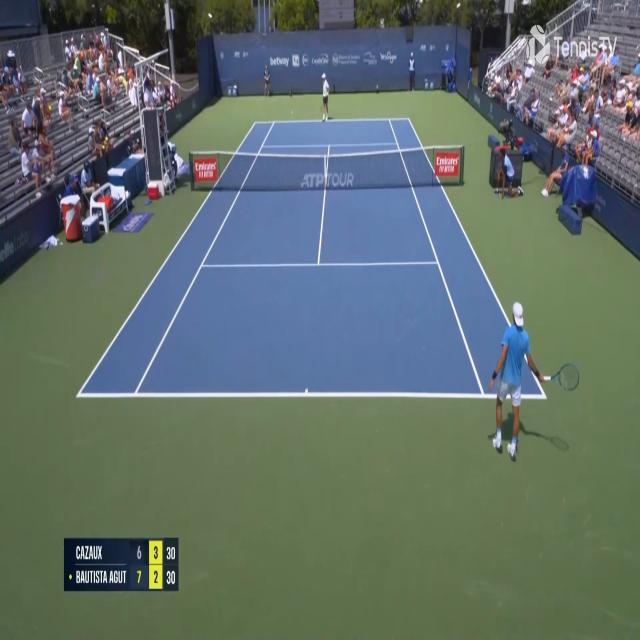tennis-player: (488, 298, 576, 463), (320, 72, 335, 124)
